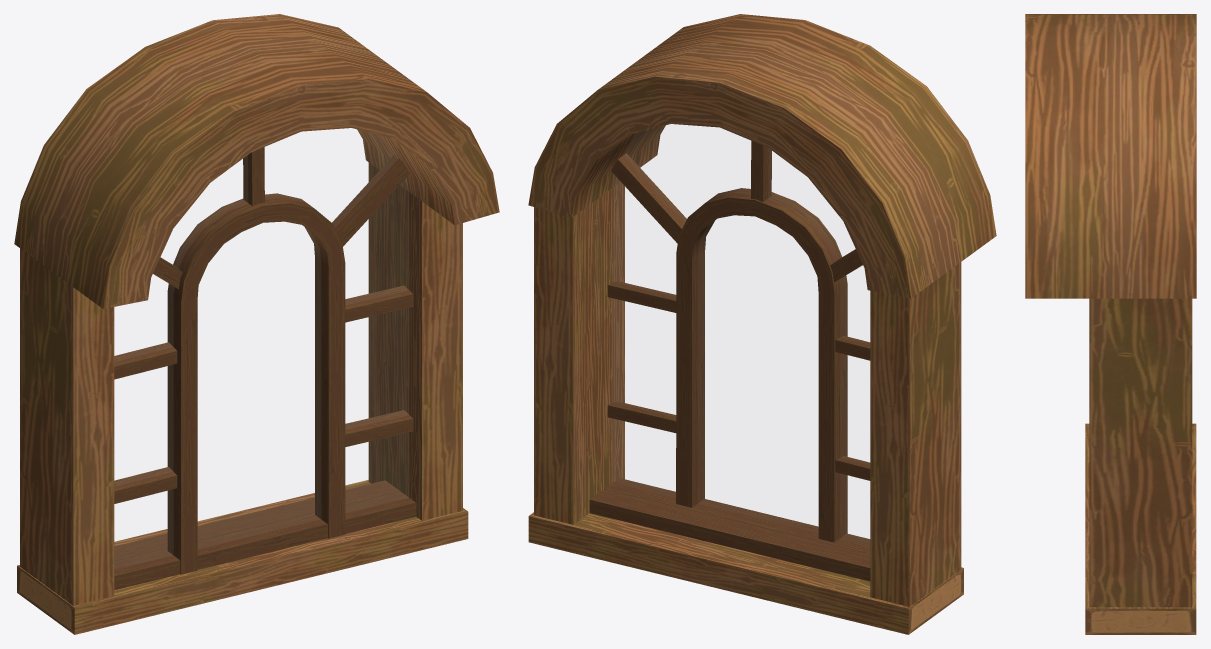
The model's file is Window_Wide_Round1.glb.
3 renders of one model, left to right at view 1: azimuth 30°, elevation 25°; view 2: azimuth 150°, elevation 25°; view 3: azimuth 270°, elevation 25°, orthographic. The views are drawn at different scales.
Visible parts, largest first — view 1: Window_Wide_Round1; view 2: Window_Wide_Round1; view 3: Window_Wide_Round1.
Part boxes in pixels (x1,y1,x2,y2): Window_Wide_Round1: (14, 14, 499, 634); Window_Wide_Round1: (528, 14, 996, 634); Window_Wide_Round1: (1025, 14, 1196, 634).
Bounding box in the file's own units: 1.36 × 1.73 × 0.5297.
2 materials, 1 textured.
